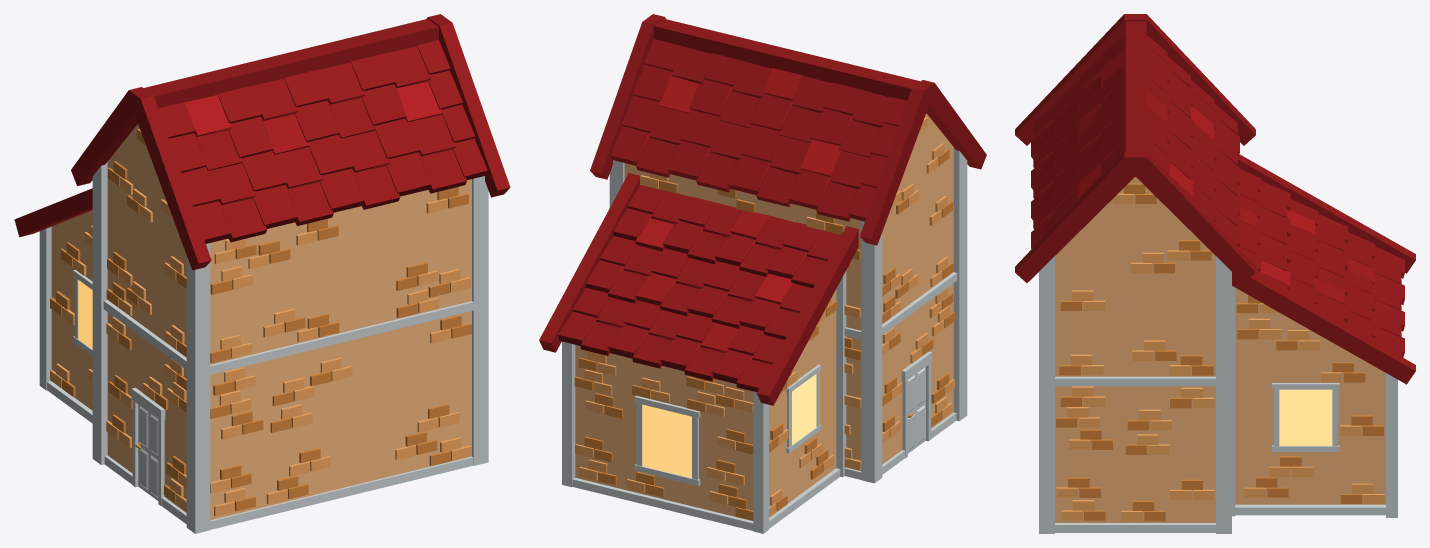
File: SM_House_12.fbx
3 views of the same model, side by side, from view 1: azimuth 30°, elevation 25°; view 2: azimuth 150°, elevation 25°; view 3: azimuth 270°, elevation 25° (orthographic). The views are drawn at different scales.
Visible parts, largest first — view 1: SM_House_12_LOD0; view 2: SM_House_12_LOD0; view 3: SM_House_12_LOD0.
Part boxes in pixels (x1,y1,x2,y2): SM_House_12_LOD0: (14, 14, 510, 533); SM_House_12_LOD0: (539, 14, 986, 533); SM_House_12_LOD0: (1015, 14, 1415, 533).
Bounding box in the file's own units: 818 × 967 × 1013.
1 material, 1 textured.
